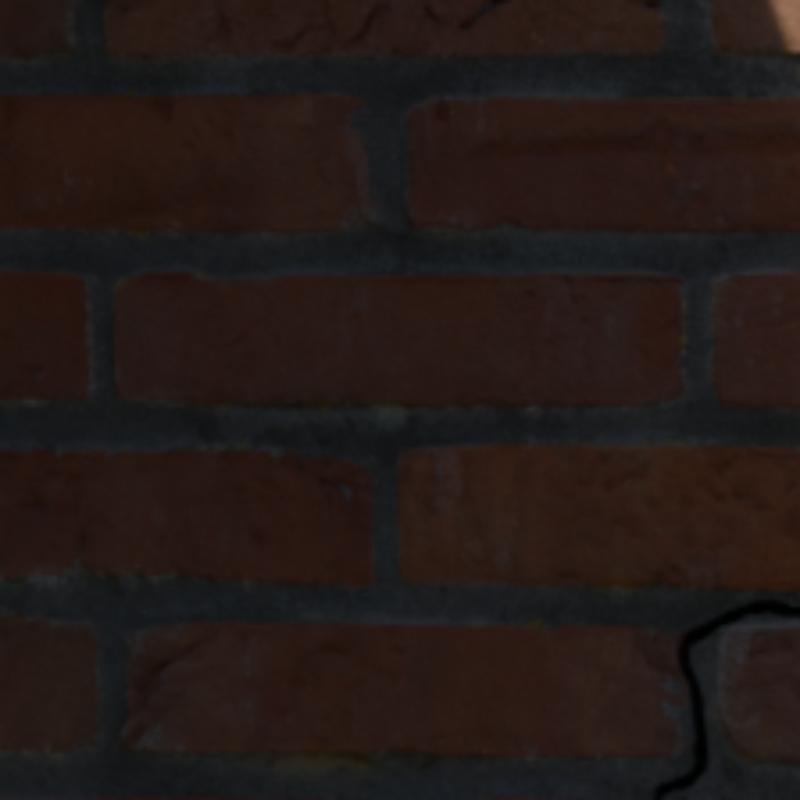pothole: (657, 600, 796, 796)
